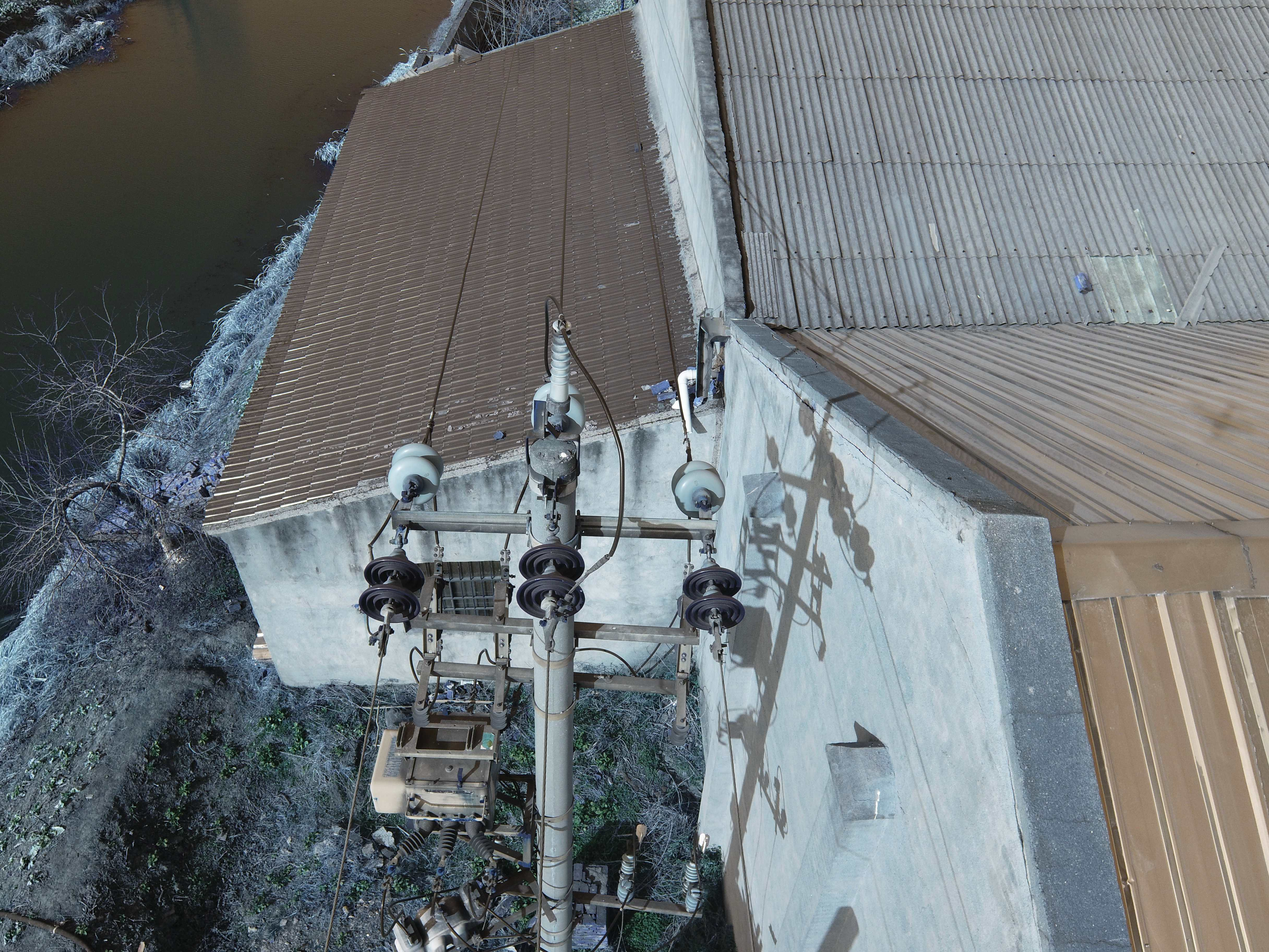severe_soiling_no_discharge_whole: (547, 315, 575, 418)
